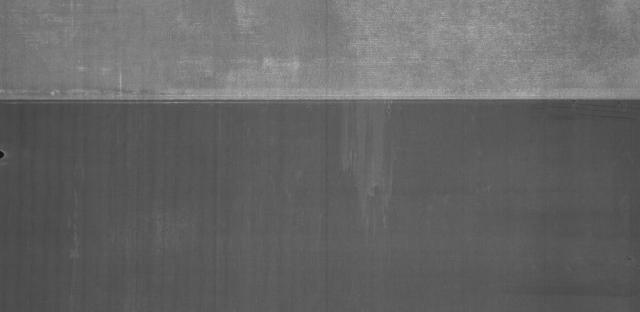welding_line: (2, 88, 640, 120)
